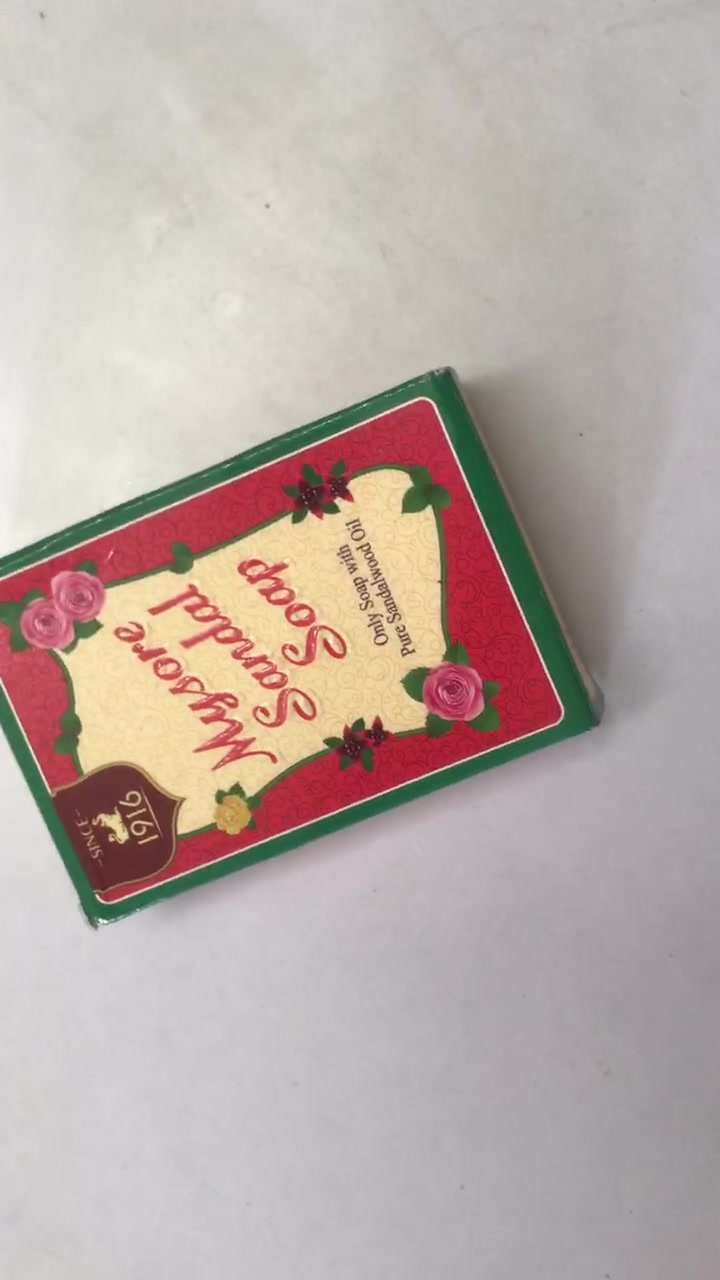mysore sandal soap: (3, 382, 585, 927)
